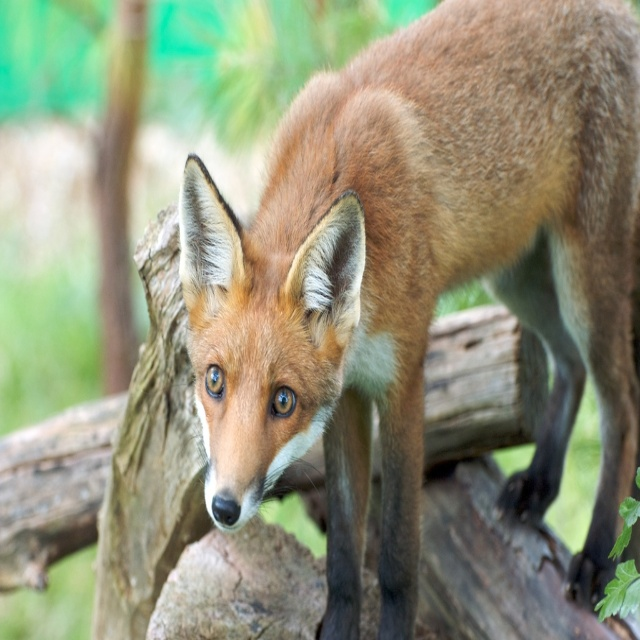Fox: (176, 0, 640, 639)
